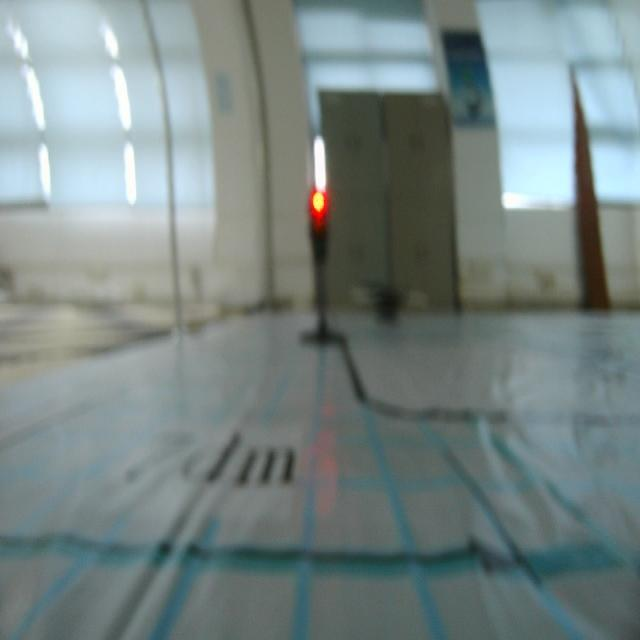red: (305, 181, 333, 270)
